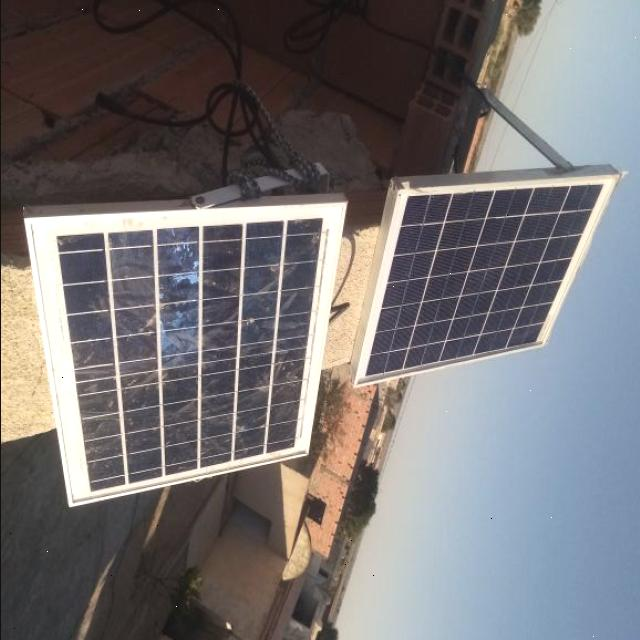Normal Solar Panel: (353, 175, 617, 389)
